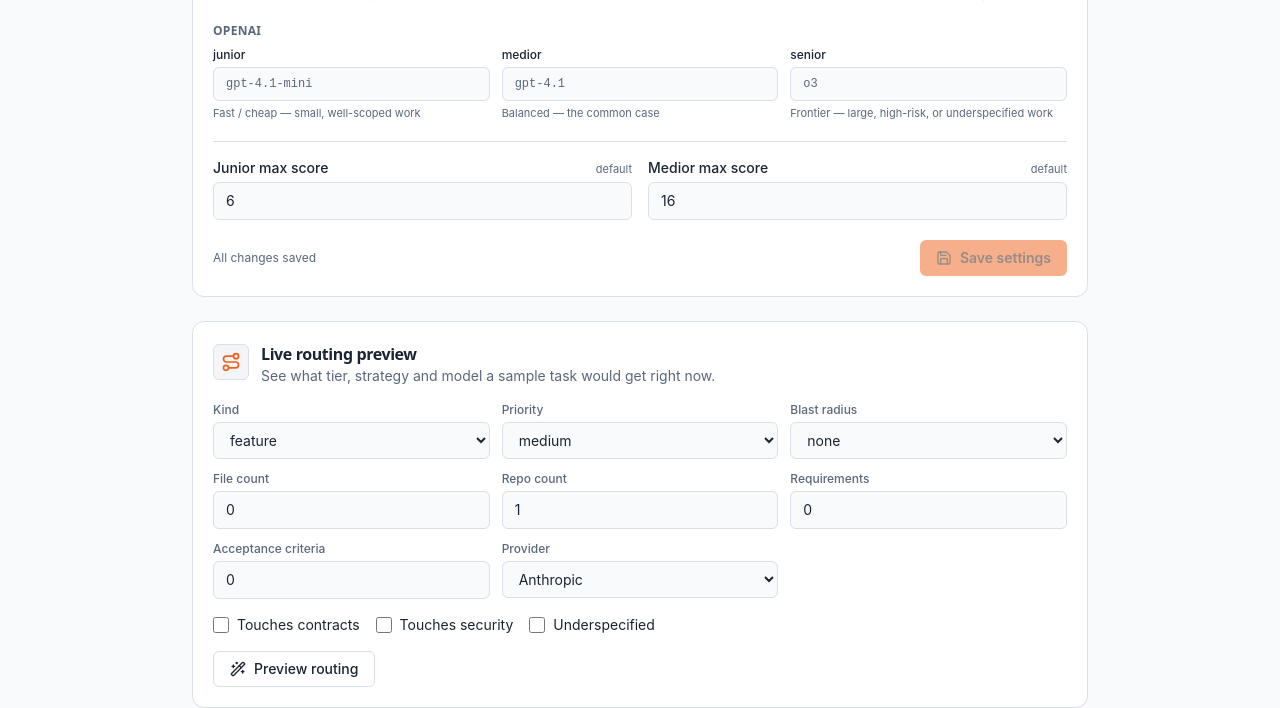
Test case: AoSettingsView › runs a live routing preview and renders the resulting tier/strategy/model
This screenshot has width=1280, height=708.
(page scrolled)
Click the button with test id "preview-run".
click(294, 669)  # box top-left (213, 651), bottom-right (375, 687)
(page scrolled)
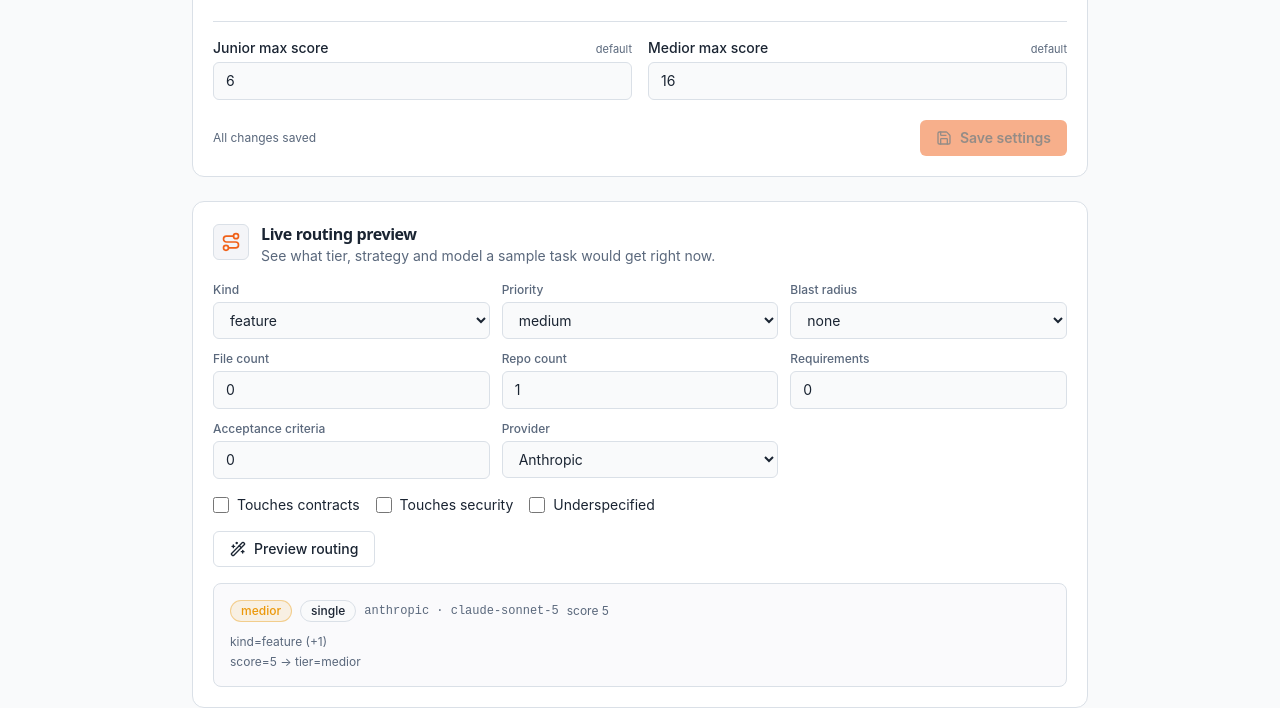
expect the element with test id "preview-result" is shown: met, box top-left (213, 583), bottom-right (1067, 687)
expect the text with test id "preview-tier" reads "medior": met, box top-left (241, 603), bottom-right (281, 618)
expect the element with test id "preview-result" shows "claude-sonnet-5": met, box top-left (451, 604), bottom-right (559, 618)
